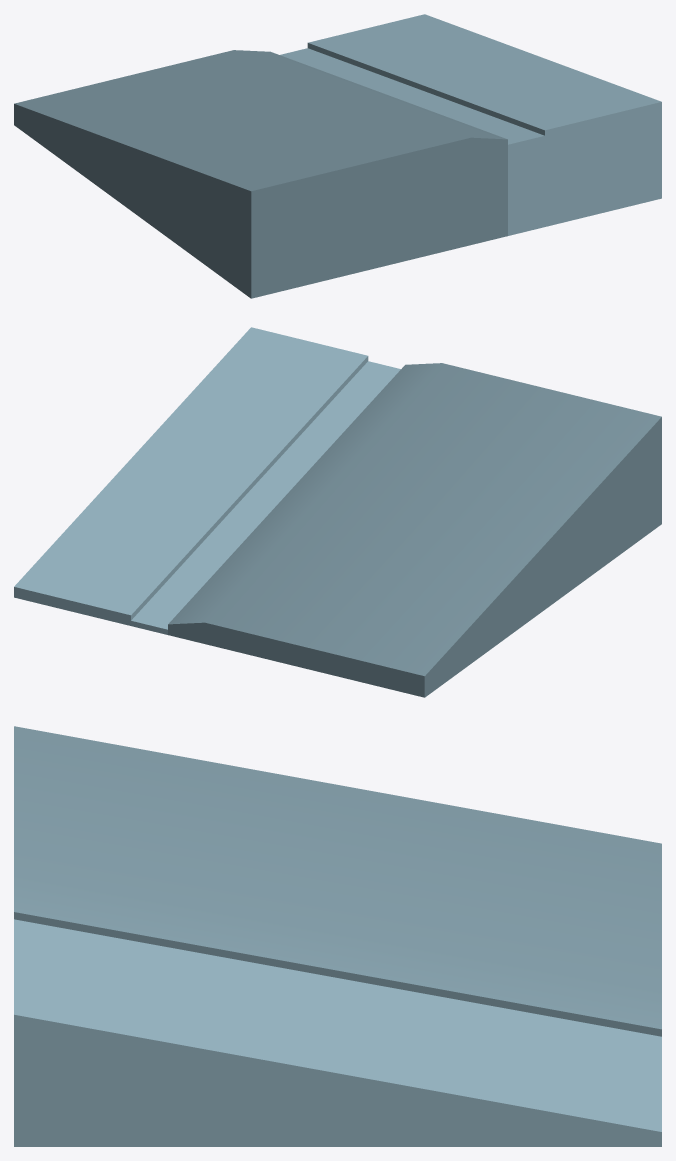
File: roadEdgeSlope.dae
3 renders of one model, top to bottom at view 1: azimuth 30°, elevation 25°; view 2: azimuth 150°, elevation 25°; view 3: azimuth 270°, elevation 25°, orthographic. The views are drawn at different scales.
Parts seen in each view (by area): view 1: roadEdgeSlope; view 2: roadEdgeSlope; view 3: roadEdgeSlope.
Boxes of the visible parts, box(x1,y1,x2,y2) form: roadEdgeSlope: box(14, 14, 661, 298); roadEdgeSlope: box(14, 327, 661, 697); roadEdgeSlope: box(14, 726, 661, 1146).
Size of the model in its own units: 1 by 0.25 by 1.
